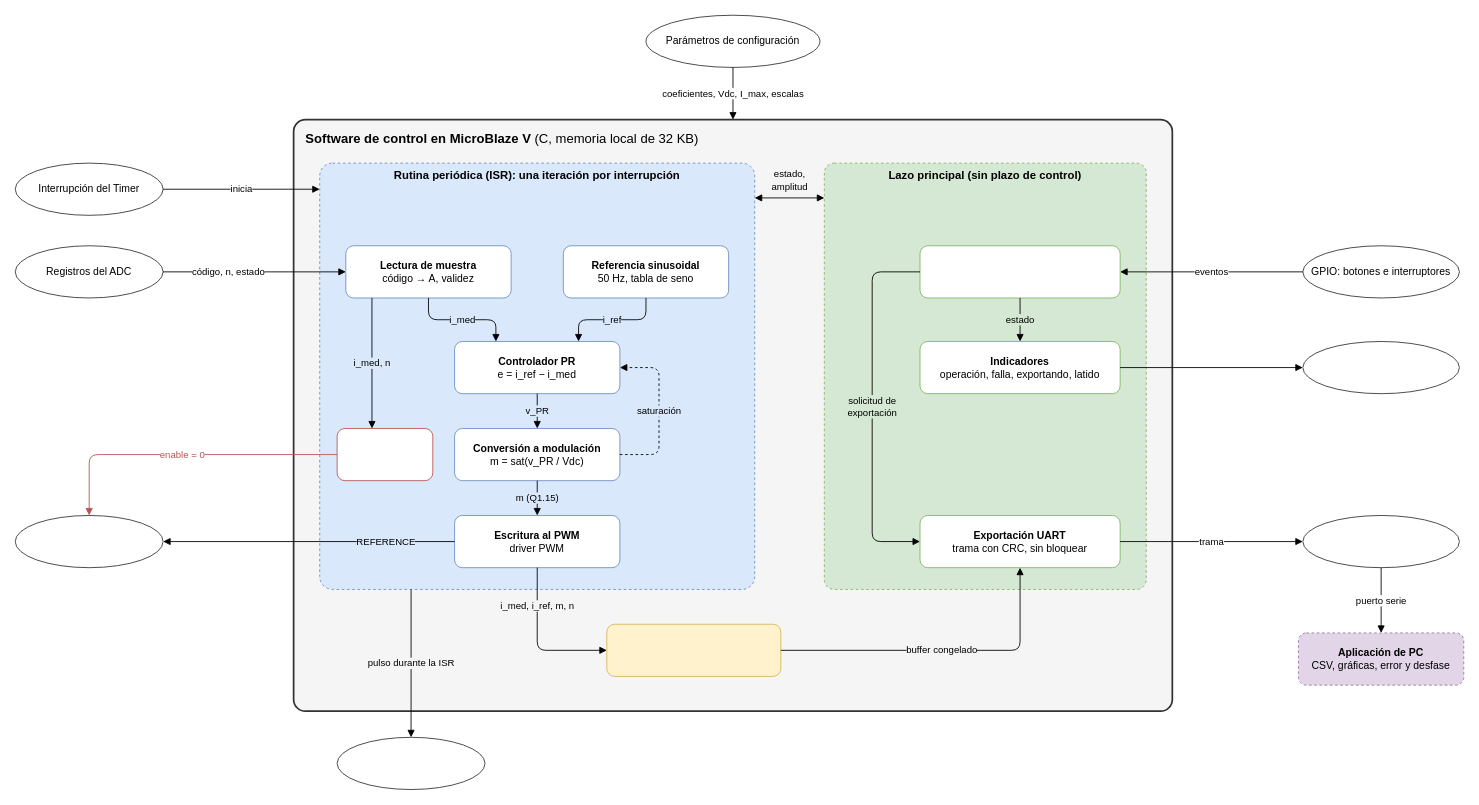
The diagram is 1479 pixels wide and 805 high, and some of its shapes have lost their labels. Each missing label, with the centre of its shape:
Estados y botones habilitar, reconocer, amplitud: the point at 1019,271
GPIO: LED: the point at 1380,367
GPIO: salida de medición: the point at 410,763
Registro de muestras buffer circular: the point at 693,649
Registros del PWM: the point at 88,541
Supervisión fallas: the point at 384,454
UART TX: the point at 1380,541
